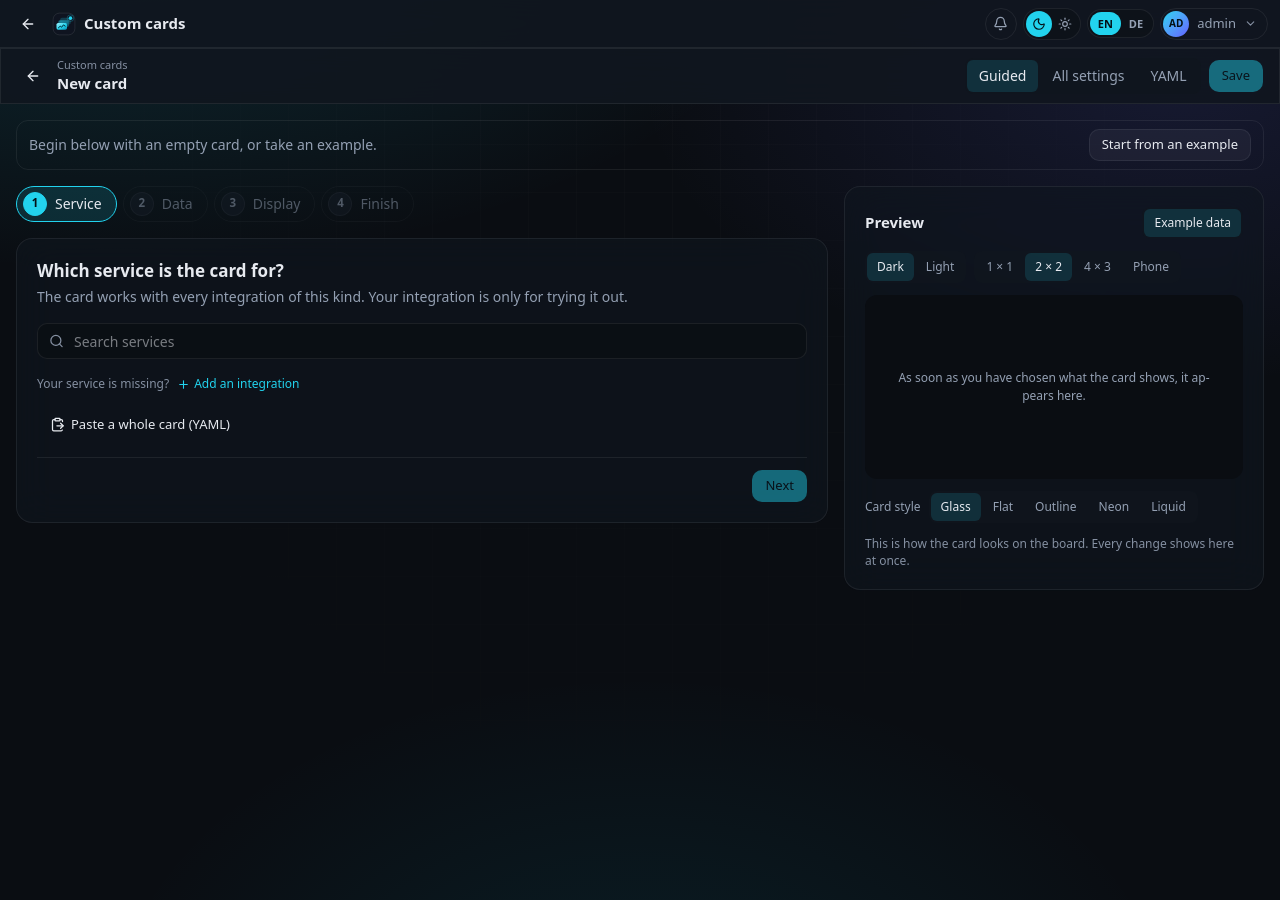
it: karten19 ac4: the card editor › says it when no connection fits the card, and still offers it
The image size is (1280, 900).
Click the button "Start from an example".
click(1170, 145)  # box [1089,129,1251,161]
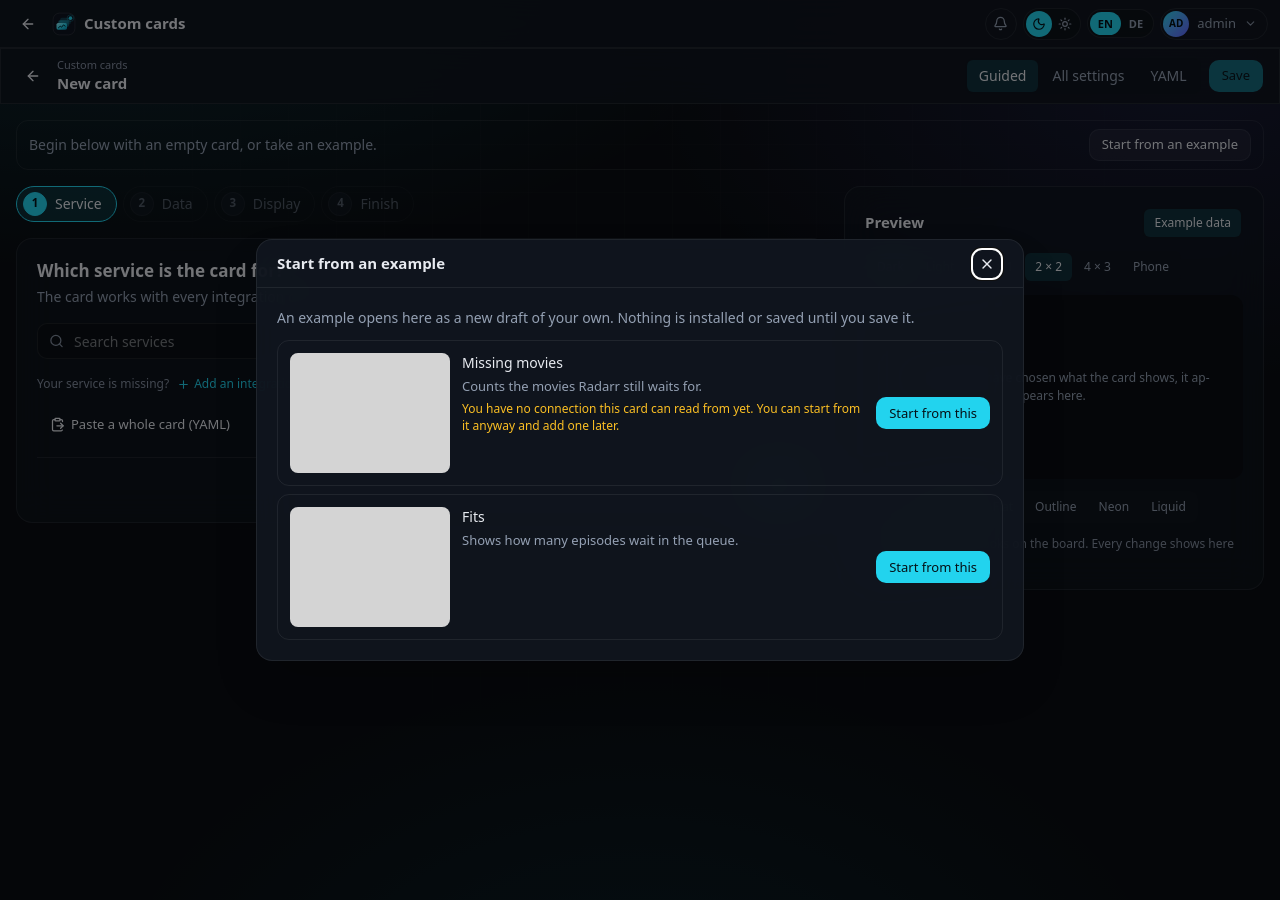
Now the text with test id "example-no-connection" shows "no connection this card can read from yet", box [462,400,860,434]
Now the 1st button "Start from this" is enabled, box [876,397,990,429]
